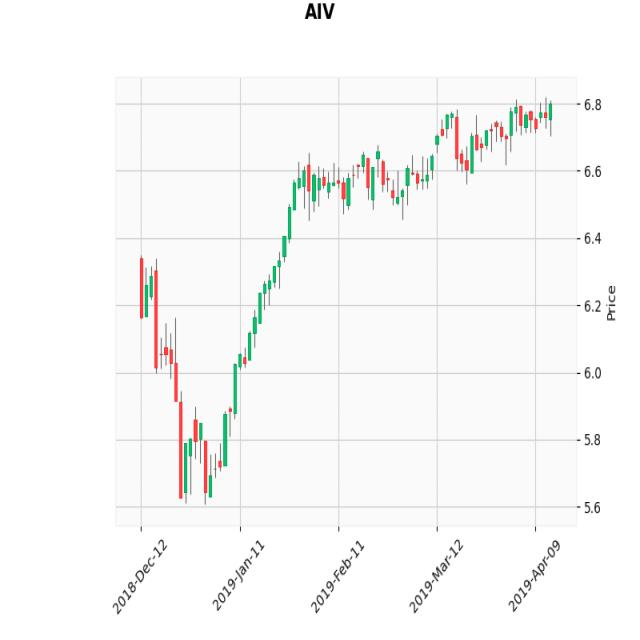Double-Bottom: (167, 368, 236, 507)
